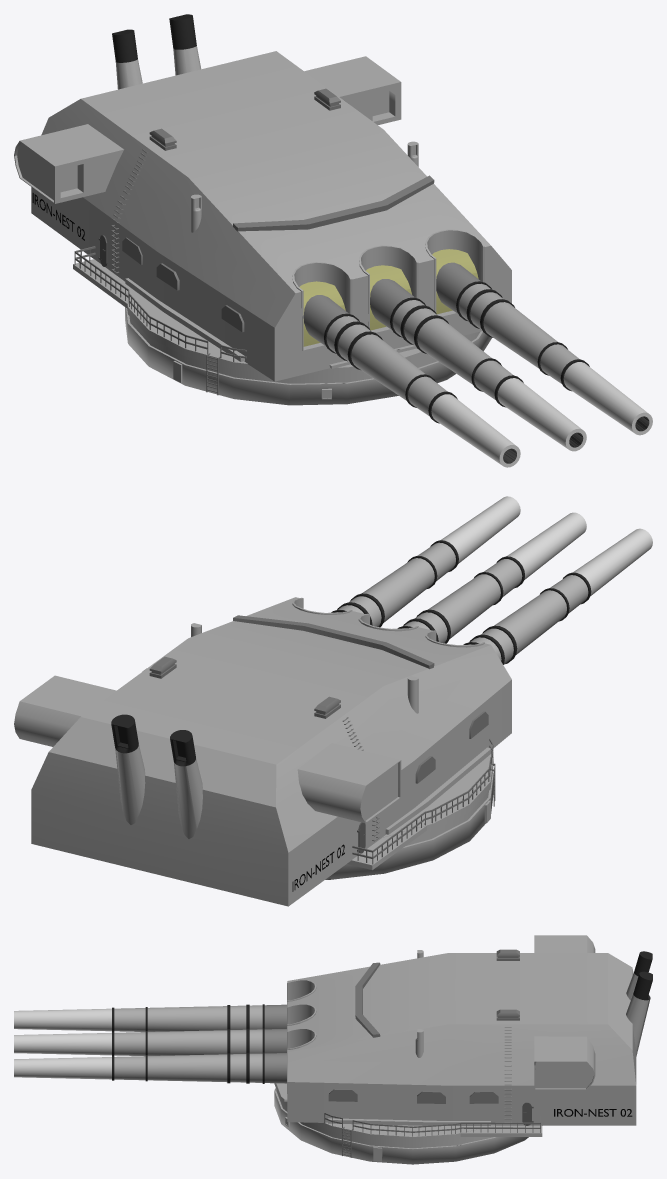
The model's file is turret_head.obj.
3 views of the same model, one above another, from view 1: azimuth 30°, elevation 25°; view 2: azimuth 150°, elevation 25°; view 3: azimuth 270°, elevation 25° (orthographic). The views are drawn at different scales.
Parts seen in each view (by area): view 1: 15060, 2; view 2: 15060, 2; view 3: 15060, 2.
Part boxes in pixels (bbox=[...]): 15060: bbox=[14, 14, 511, 405]; 2: bbox=[303, 262, 652, 467]; 15060: bbox=[14, 597, 511, 906]; 2: bbox=[331, 496, 652, 664]; 15060: bbox=[274, 935, 652, 1164]; 2: bbox=[14, 1004, 286, 1083].
Bounding box in the file's own units: 0.3694 × 0.1946 × 0.79.
